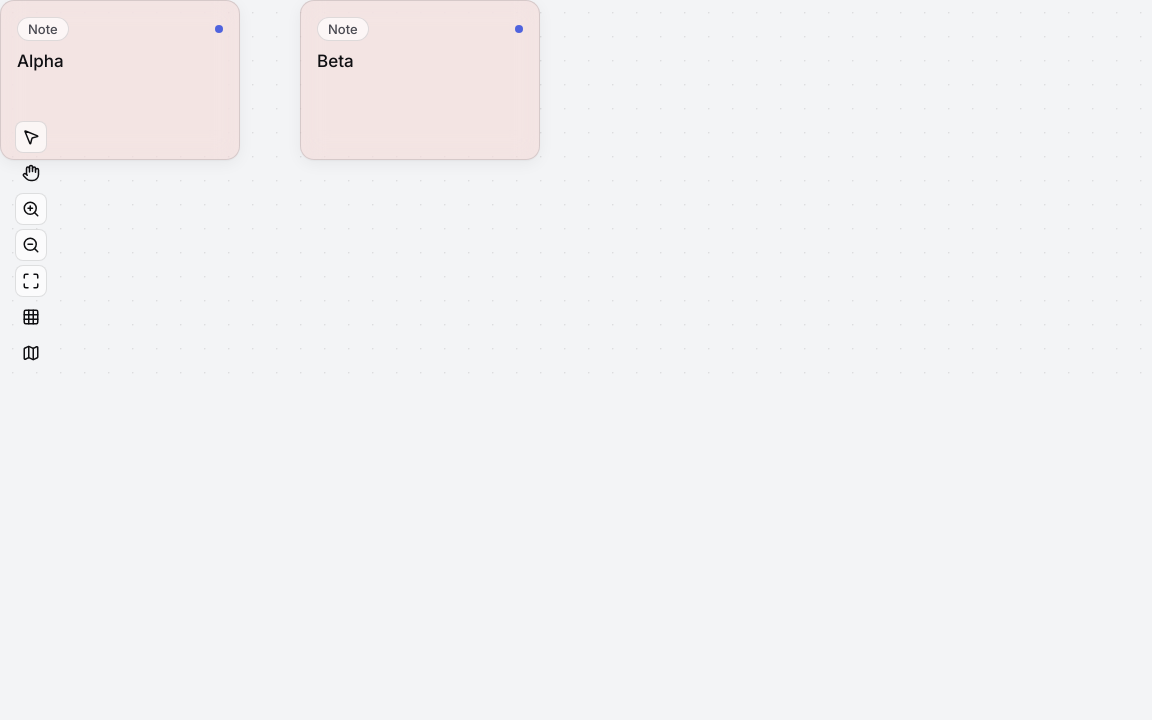
Test: canvas tools › M opens the move dialog for the selection, and does nothing without one
The width and height of the screenshot is (1152, 720).
Press m
Click the element showing "Note Alpha".
click(120, 80)  # box [0,0,240,160]
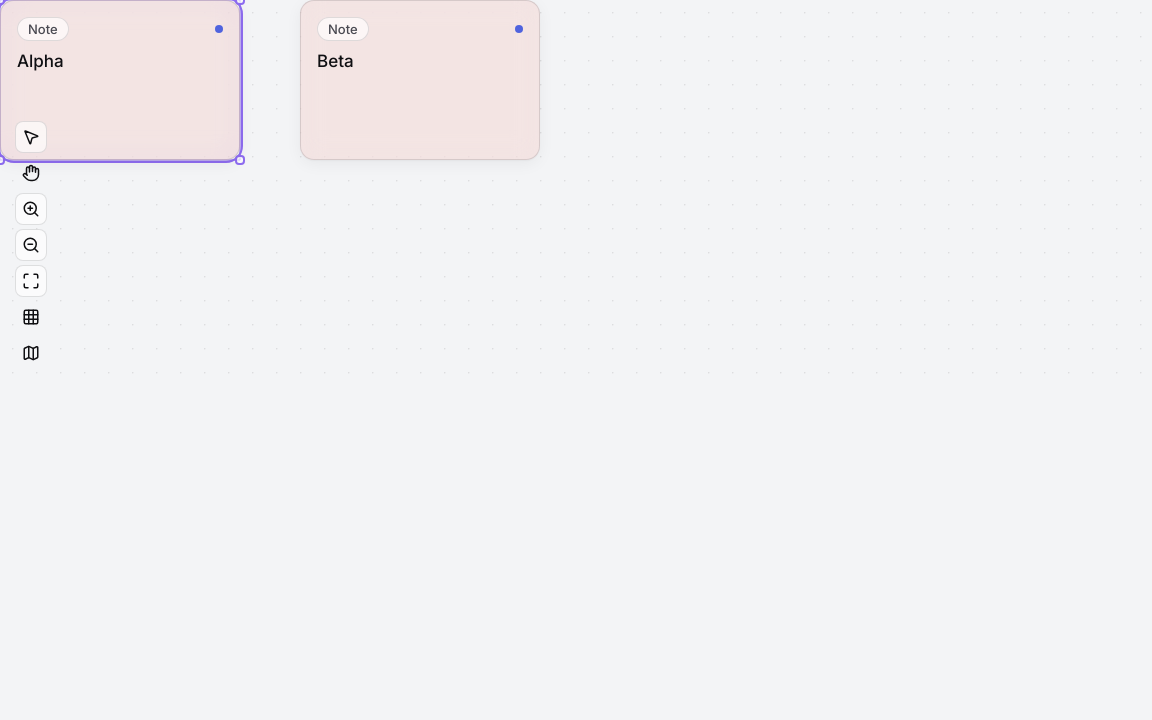
Press m
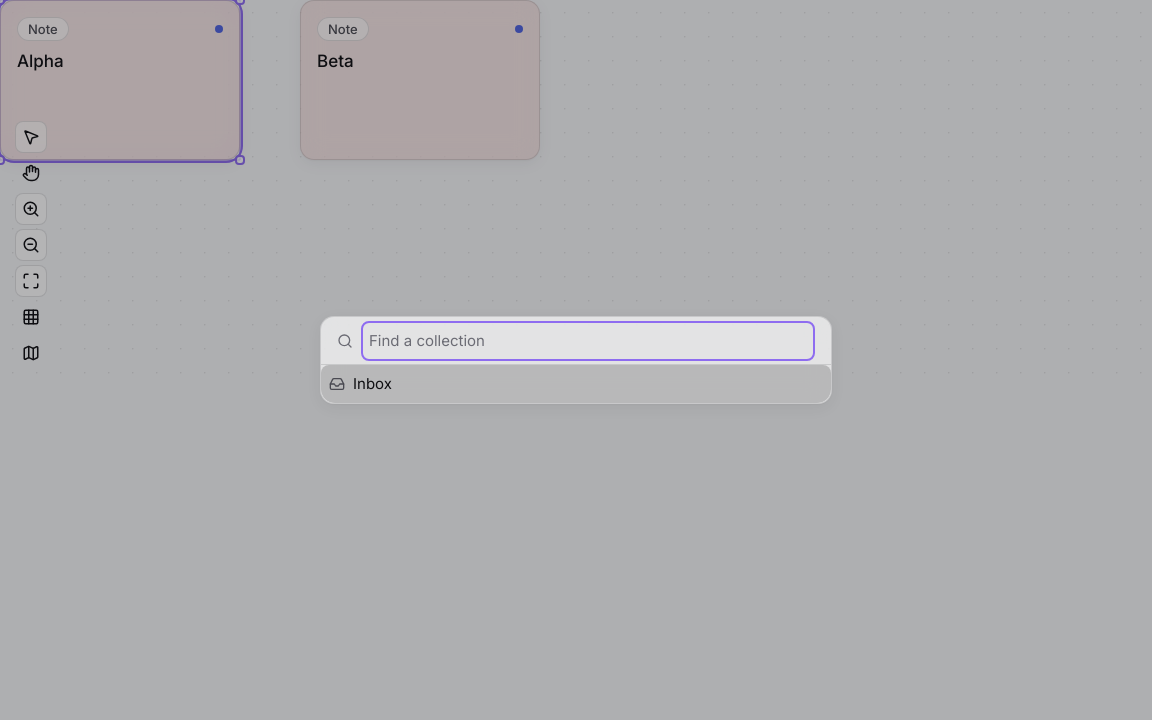
Expected: the dialog named "Move 1 item to…" is shown, [320,316,832,404]
